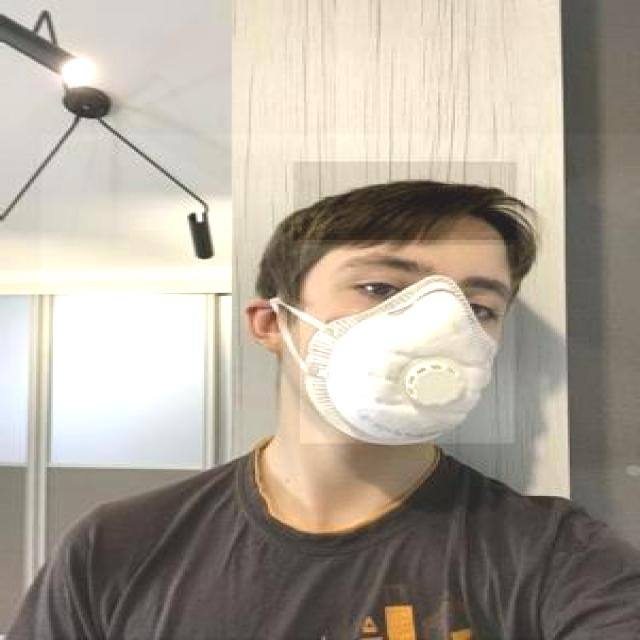face_mask: (300, 245, 514, 443)
head_nohelmet: (293, 162, 517, 240)
person: (38, 134, 640, 638)
